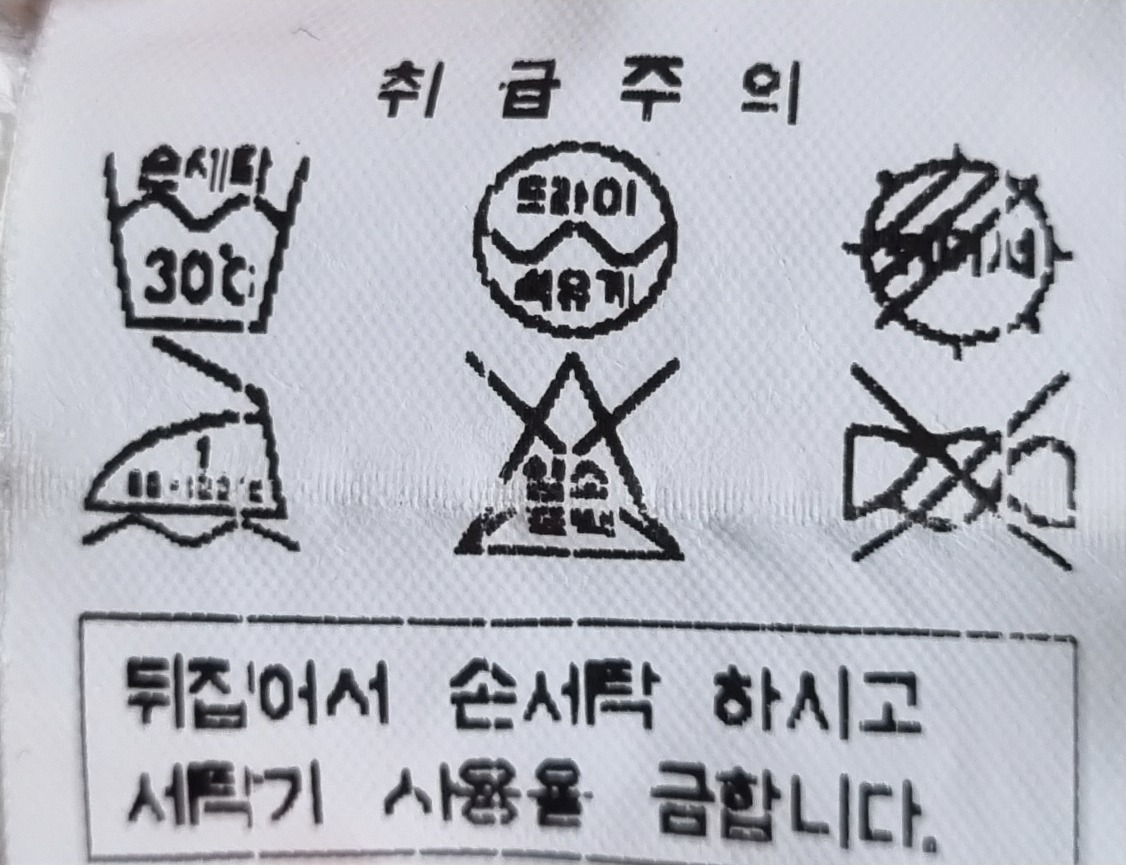KR_dry_clean_petroleum: (459, 125, 685, 340)
KR_flat_dry_in_shade: (852, 149, 1068, 355)
KR_hand_wash_30_neutral: (92, 139, 312, 340)
KR_iron_low_temp_with_cloth: (69, 350, 315, 571)
KR_no_chlorine_bleach: (447, 339, 684, 571)
KR_no_wring: (827, 367, 1095, 567)
